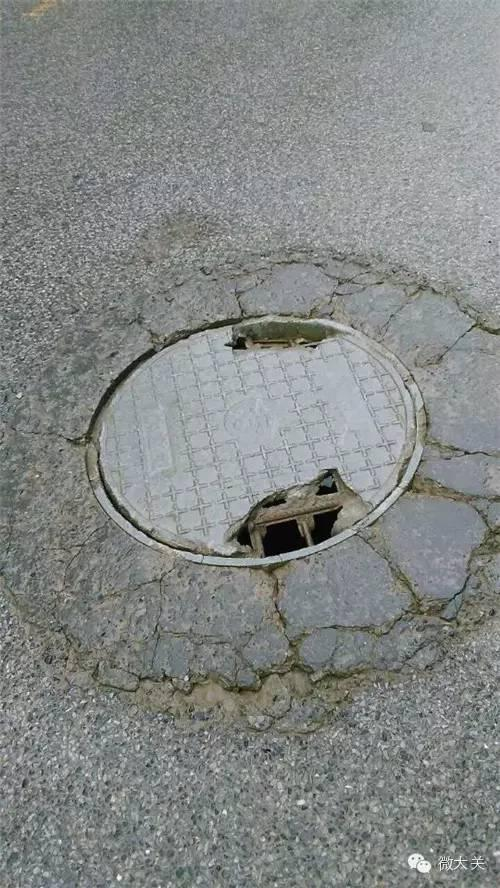wellcover: (74, 272, 454, 575)
